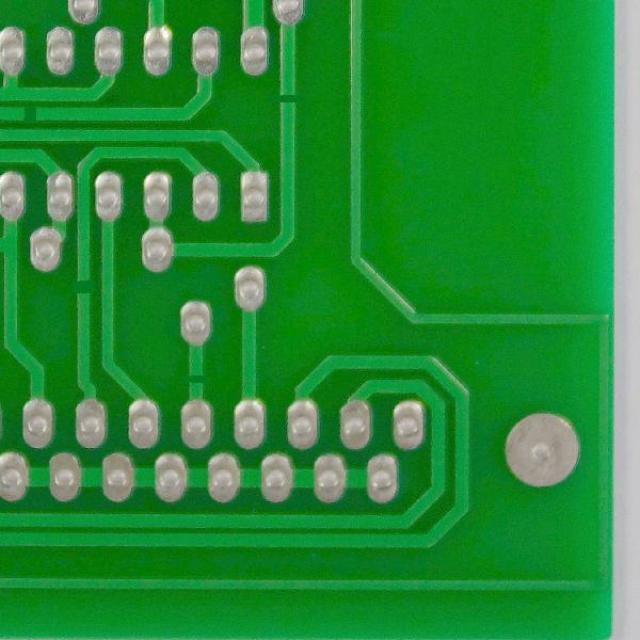Open_Circuit: (66, 270, 99, 305), (271, 82, 304, 115), (16, 97, 47, 129), (182, 365, 212, 392)
